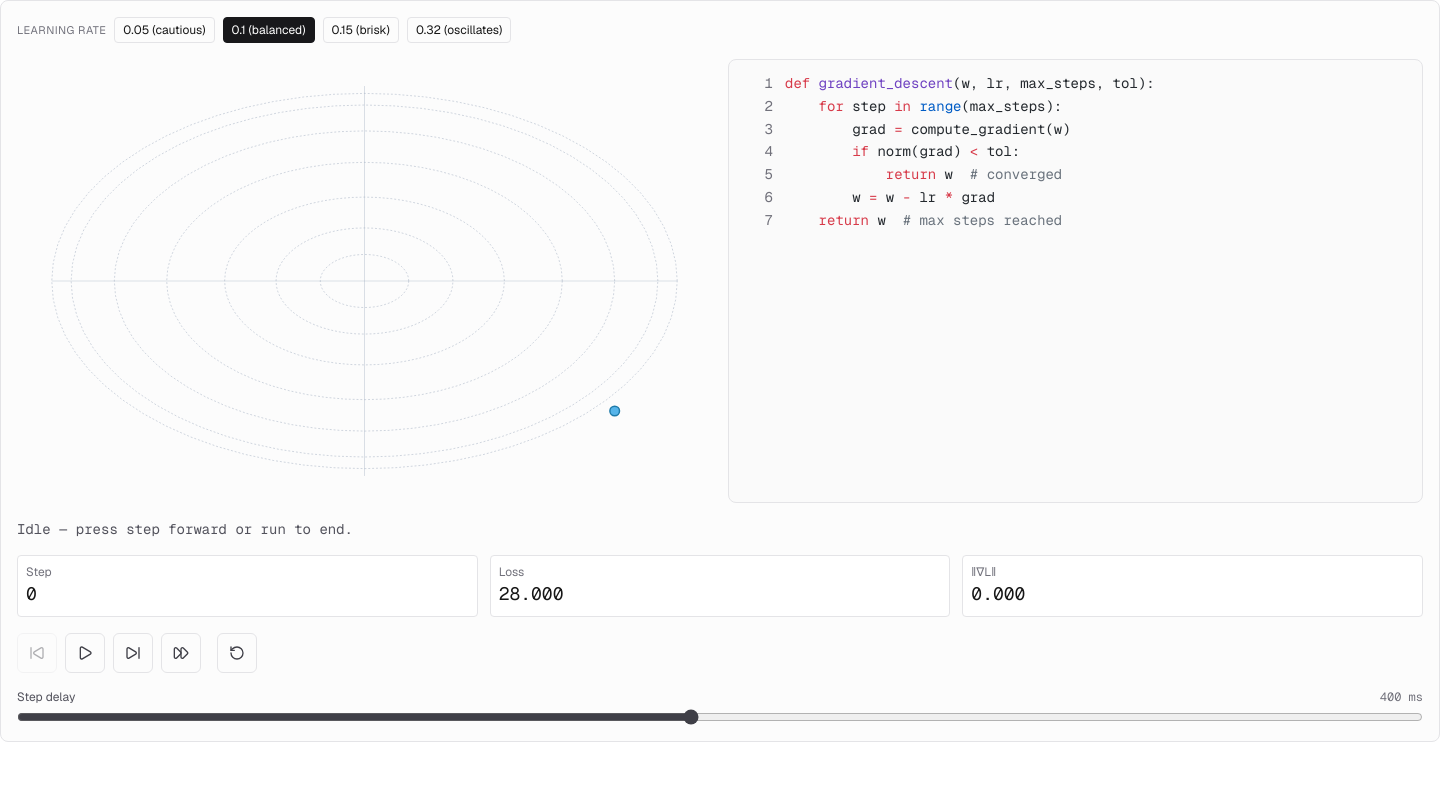
Test case: GradientDescentViz › changing the learning rate resets playback (Step counter back to 0)
Step 1. Click the button named "Step forward" → (133, 653), box top-left (113, 633), bottom-right (153, 673)
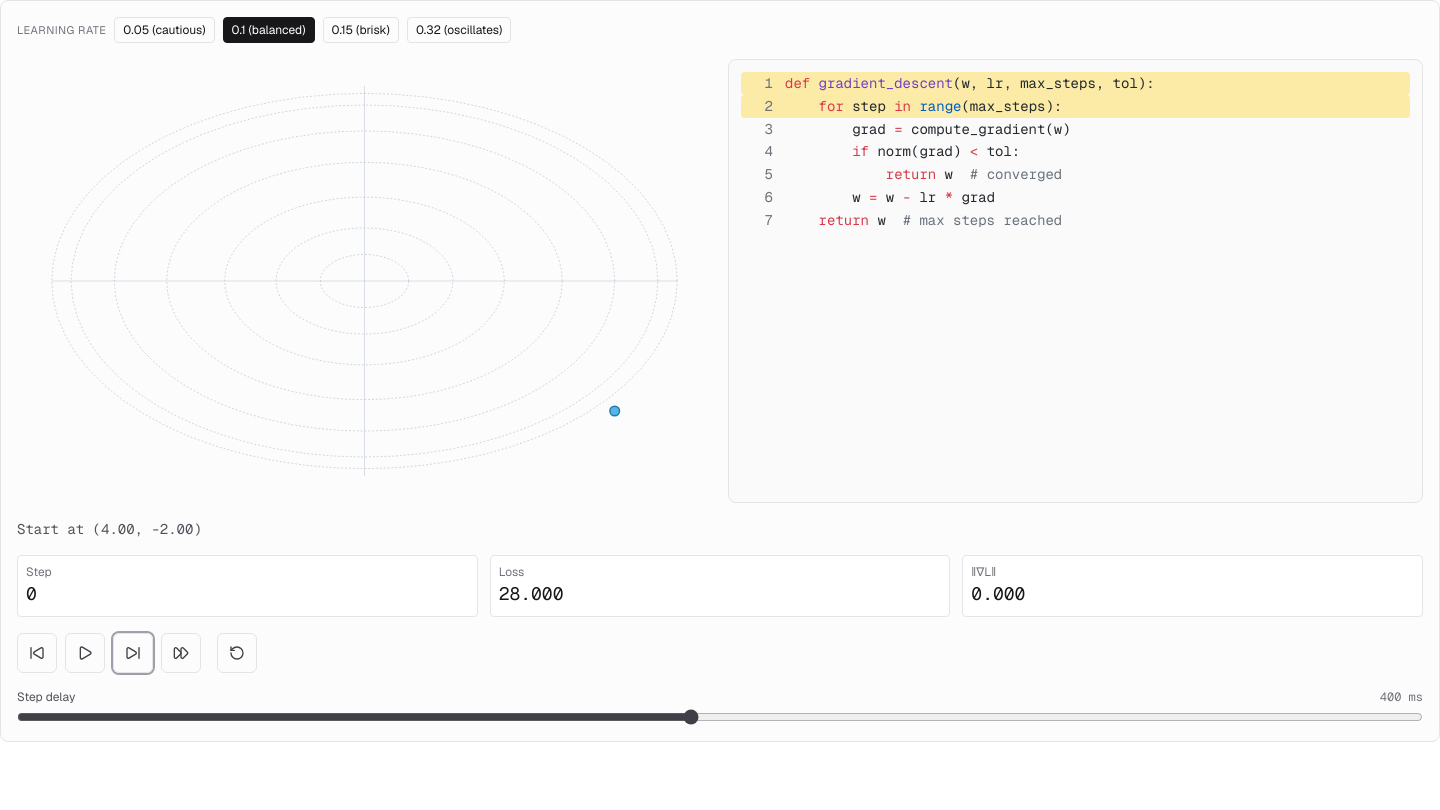
Step 2. Click the button named "Step forward" → (133, 653), box top-left (113, 633), bottom-right (153, 673)
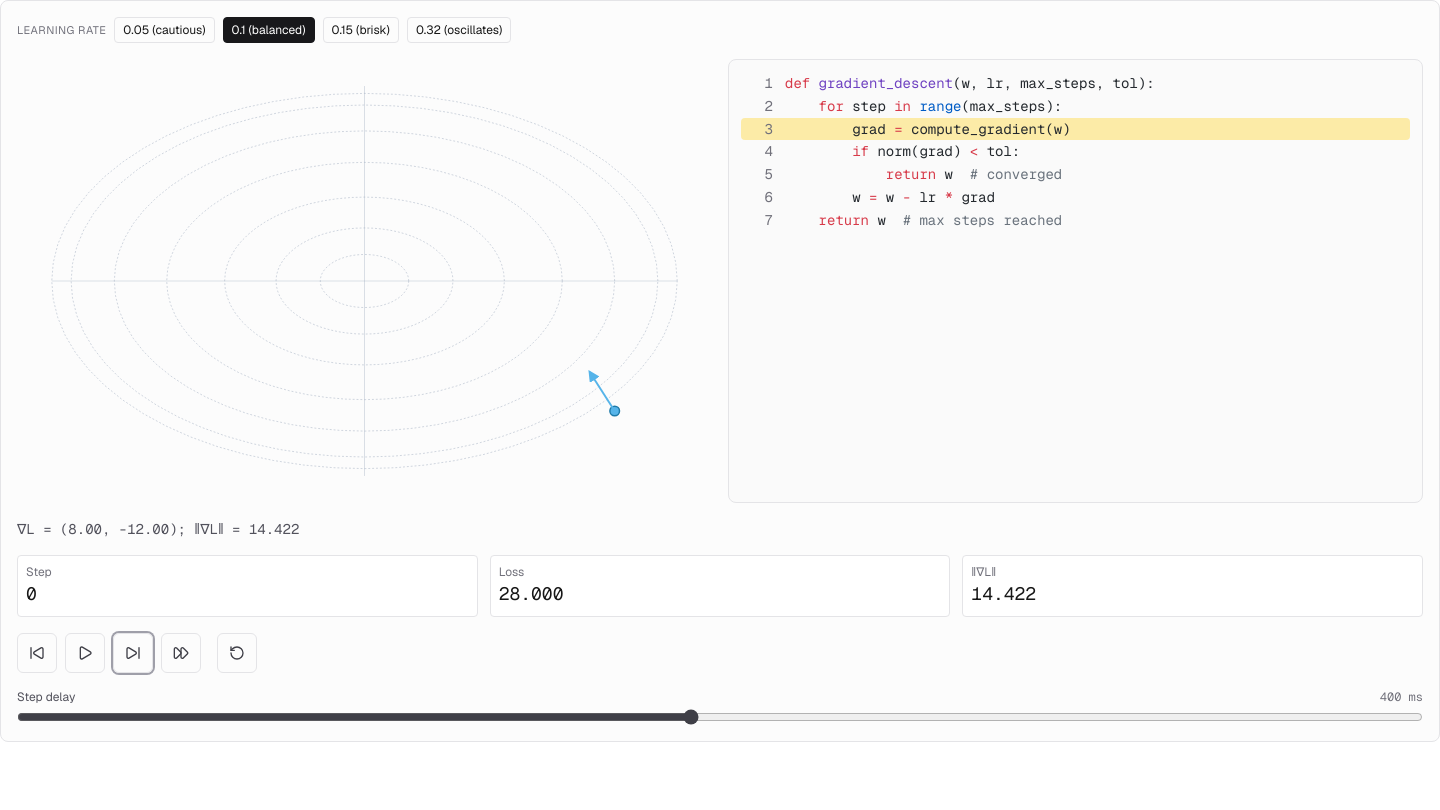
Step 3. Click the button named "Step forward" → (133, 653), box top-left (113, 633), bottom-right (153, 673)
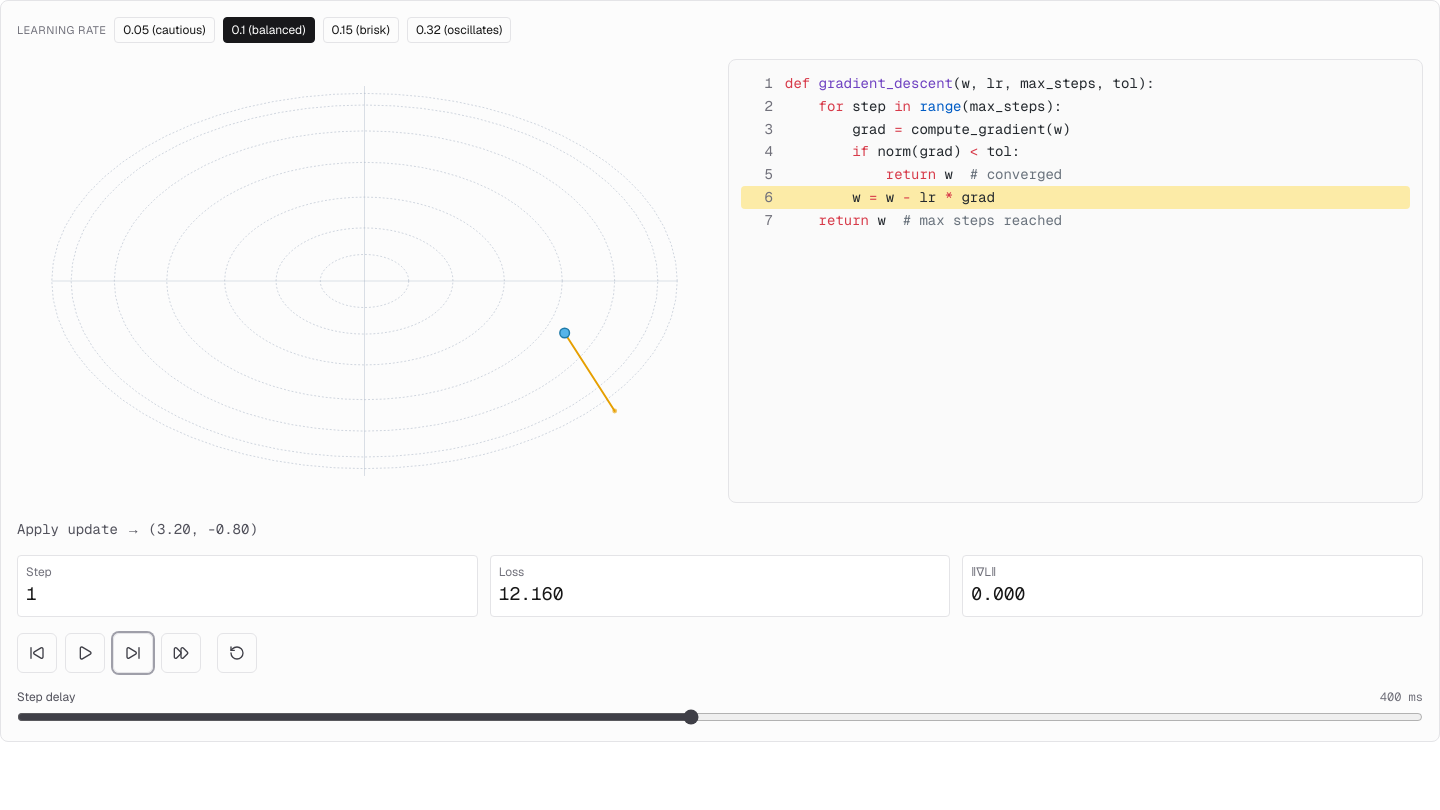
Step 4. Click the button named "Step forward" → (133, 653), box top-left (113, 633), bottom-right (153, 673)
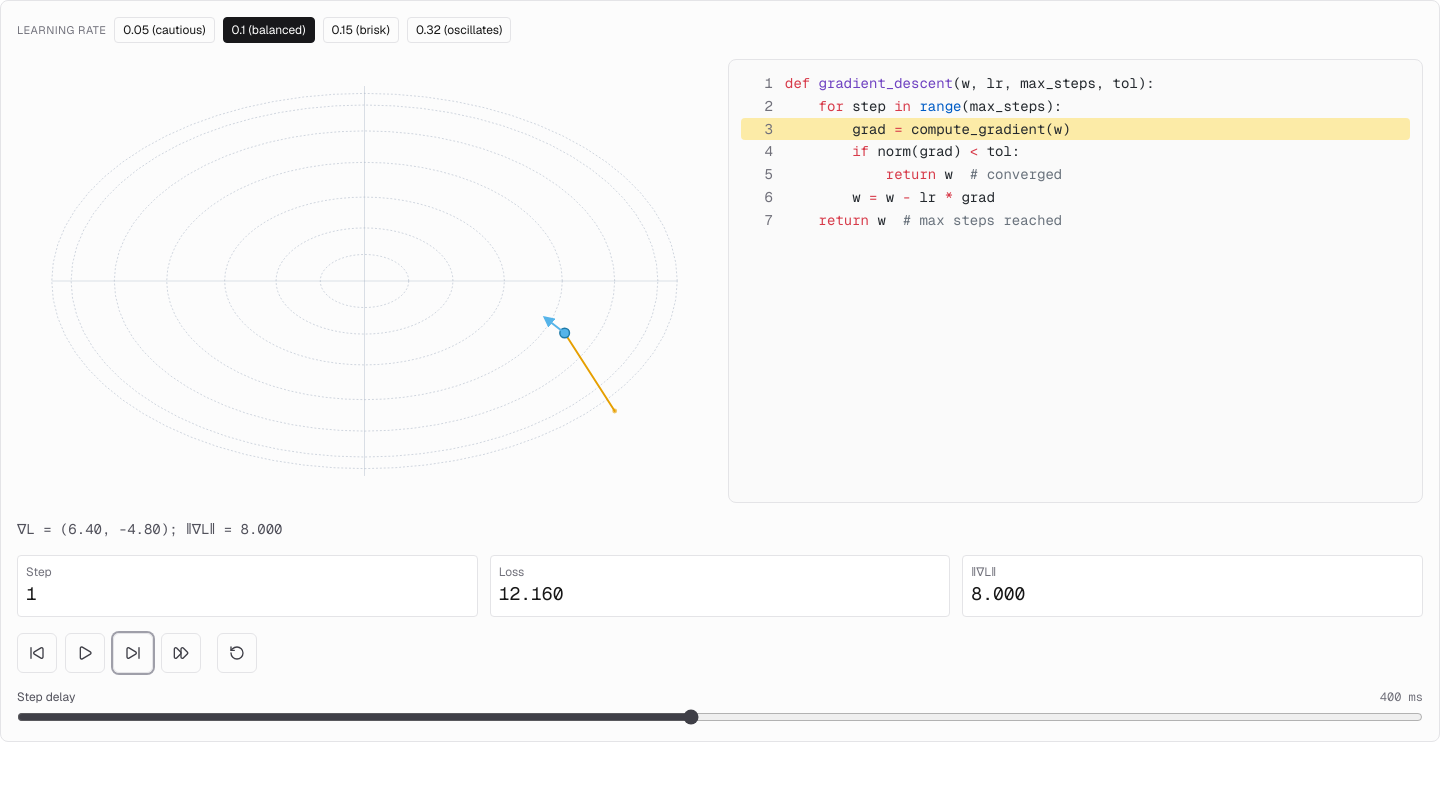
Step 5. Click the button "0.15 (brisk)" → (361, 30), box top-left (323, 17), bottom-right (399, 43)
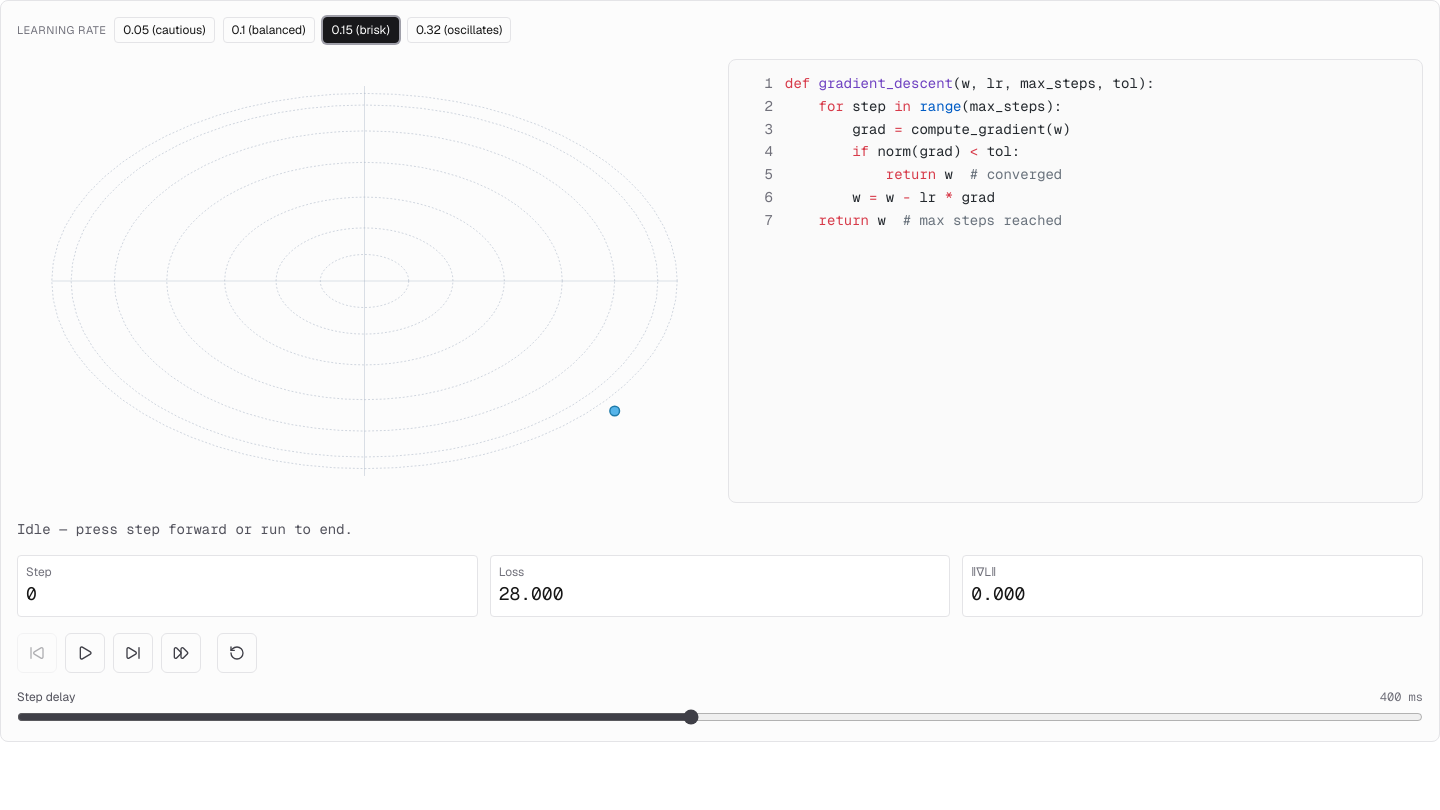
Check: the text "0" is shown, box top-left (26, 582), bottom-right (37, 605)
